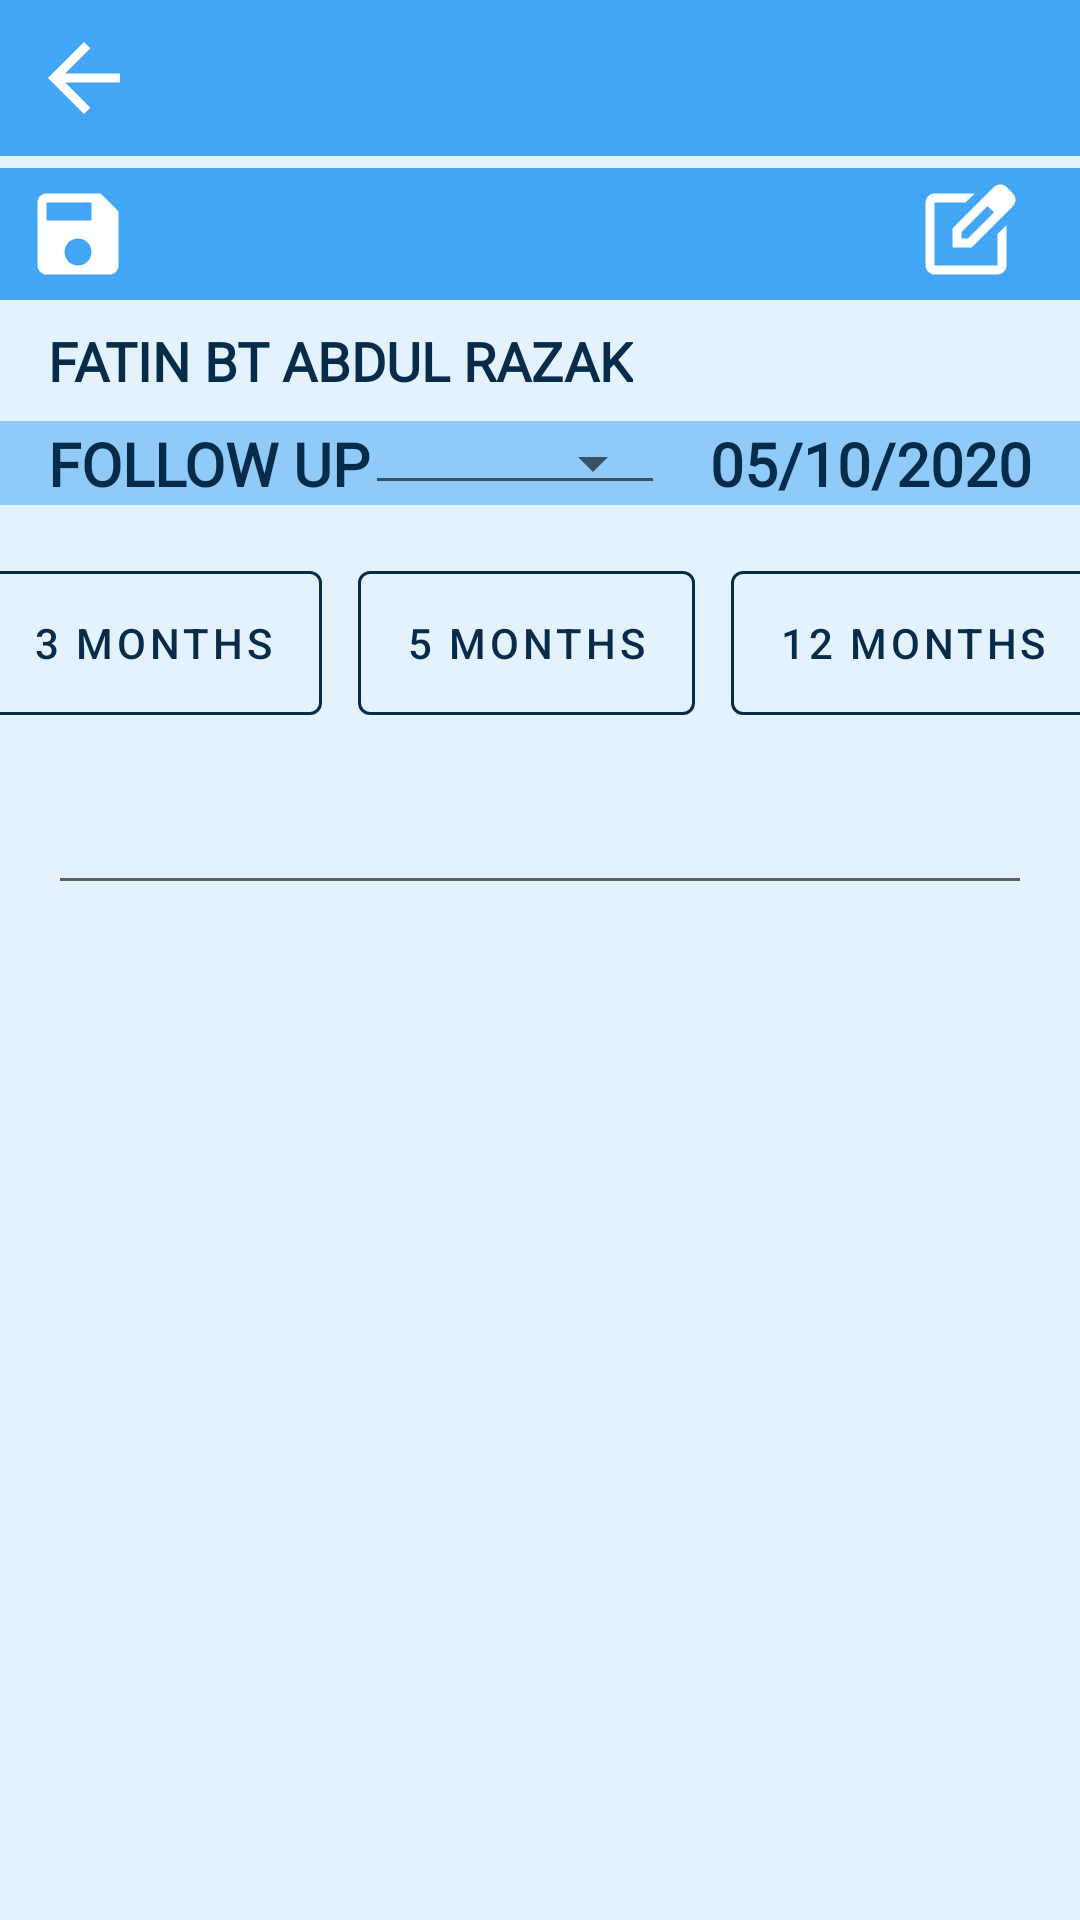

Screen size 1080 x 1920. Icon name, then its box in pixels as (x1=x1, y1=y1, x2=x2, y2=y2):
arrow back: (x1=48, y1=42, x2=120, y2=114)
read write: (x1=925, y1=184, x2=1016, y2=275)
save: (x1=37, y1=193, x2=119, y2=275)
